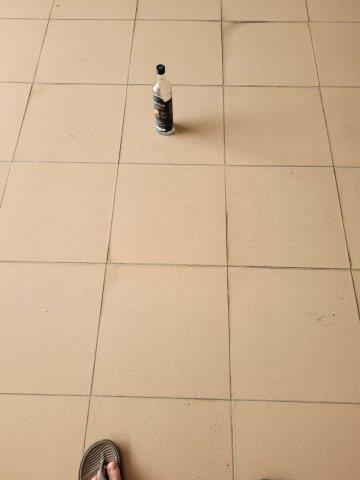botolkaca: (152, 64, 175, 135)
